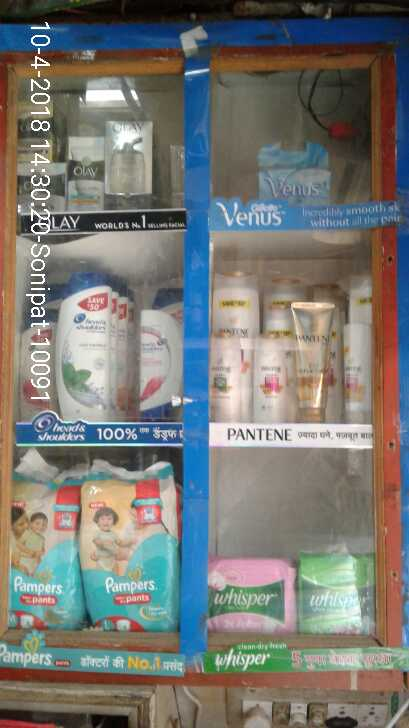venus: (259, 139, 332, 205)
